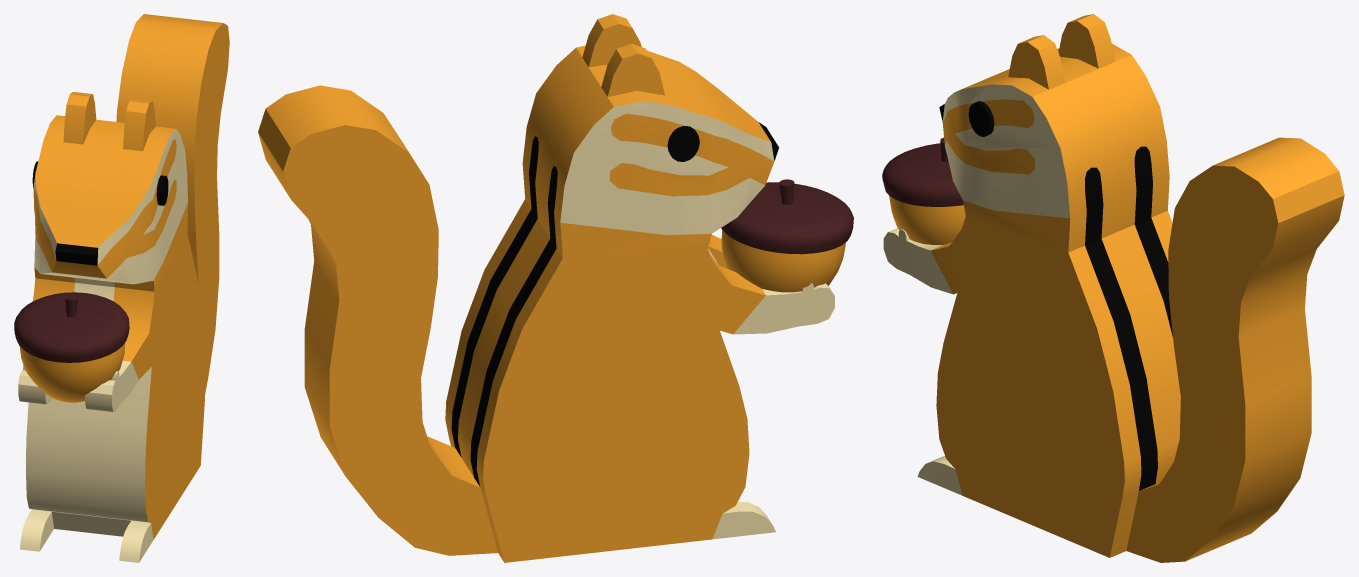
File: chipmunk.glb
The picture shows the model from 3 angles, left to right: view 1: azimuth 30°, elevation 25°; view 2: azimuth 150°, elevation 25°; view 3: azimuth 270°, elevation 25°; orthographic projection. The views are drawn at different scales.
Parts seen in each view (by area): view 1: Plane.141, Sphere.382, Circle.1920; view 2: Plane.141, Sphere.382, Circle.1920; view 3: Plane.141, Sphere.382, Circle.1920.
Boxes of the visible parts, x1,y1,x2,y2 form: Plane.141: (18,14,229,562); Sphere.382: (14,292,129,402); Circle.1920: (32,161,168,205); Plane.141: (258,14,834,562); Sphere.382: (721,179,853,292); Circle.1920: (667,126,699,161); Plane.141: (883,14,1344,562); Sphere.382: (882,137,965,245); Circle.1920: (968,101,994,136).
Bounding box in the file's own units: 1.65 × 1.84 × 1.64.
Materials: 1 (1 with a texture image).
